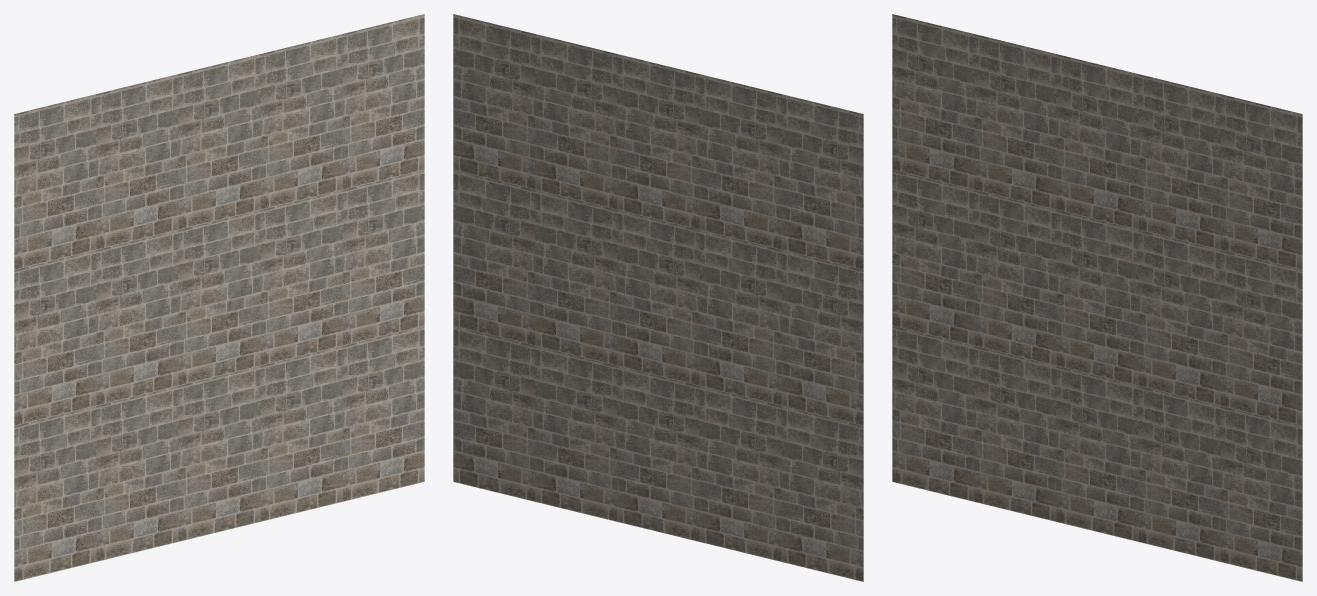
Rendered from Wall.fbx.
3 renders of one model, left to right at view 1: azimuth 30°, elevation 25°; view 2: azimuth 150°, elevation 25°; view 3: azimuth 330°, elevation 25°, orthographic.
Visible parts, largest first — view 1: Wall8, Wall12, Wall14, Wall2, Wall4, Wall15, Wall5, Wall11, Wall1, Wall7, Wall9, Wall10 (+3 smaller); view 2: Wall8, Wall12, Wall14, Wall2, Wall4, Wall15, Wall5, Wall11, Wall1, Wall7, Wall9, Wall10 (+3 smaller); view 3: Wall8, Wall12, Wall14, Wall2, Wall4, Wall15, Wall5, Wall11, Wall1, Wall7, Wall9, Wall10 (+3 smaller).
Part boxes in pixels (<box>): Wall8: <box>178,210,260,385</box>; Wall12: <box>260,346,342,521</box>; Wall14: <box>96,386,178,561</box>; Wall2: <box>260,34,342,209</box>; Wall4: <box>96,74,178,249</box>; Wall15: <box>14,406,96,581</box>; Wall5: <box>14,94,96,269</box>; Wall11: <box>342,326,424,501</box>; Wall1: <box>342,14,424,189</box>; Wall7: <box>260,190,342,365</box>; Wall9: <box>96,230,178,405</box>; Wall10: <box>14,250,96,425</box>; Wall8: <box>617,210,699,385</box>; Wall12: <box>535,346,617,521</box>; Wall14: <box>699,386,781,561</box>; Wall2: <box>535,34,617,209</box>; Wall4: <box>699,74,781,249</box>; Wall15: <box>781,406,863,581</box>; Wall5: <box>781,94,863,269</box>; Wall11: <box>453,326,535,501</box>; Wall1: <box>453,14,535,189</box>; Wall7: <box>535,190,617,365</box>; Wall9: <box>699,230,781,405</box>; Wall10: <box>781,250,863,425</box>; Wall8: <box>1056,210,1138,385</box>; Wall12: <box>1138,386,1220,561</box>; Wall14: <box>974,346,1056,521</box>; Wall2: <box>1138,74,1220,249</box>; Wall4: <box>974,34,1056,209</box>; Wall15: <box>892,326,974,501</box>; Wall5: <box>892,14,974,189</box>; Wall11: <box>1220,406,1302,581</box>; Wall1: <box>1220,94,1302,269</box>; Wall7: <box>1138,230,1220,405</box>; Wall9: <box>974,190,1056,365</box>; Wall10: <box>892,170,974,345</box>.
Size of the model in its own units: 7977 by 8693 by 0.00151.
